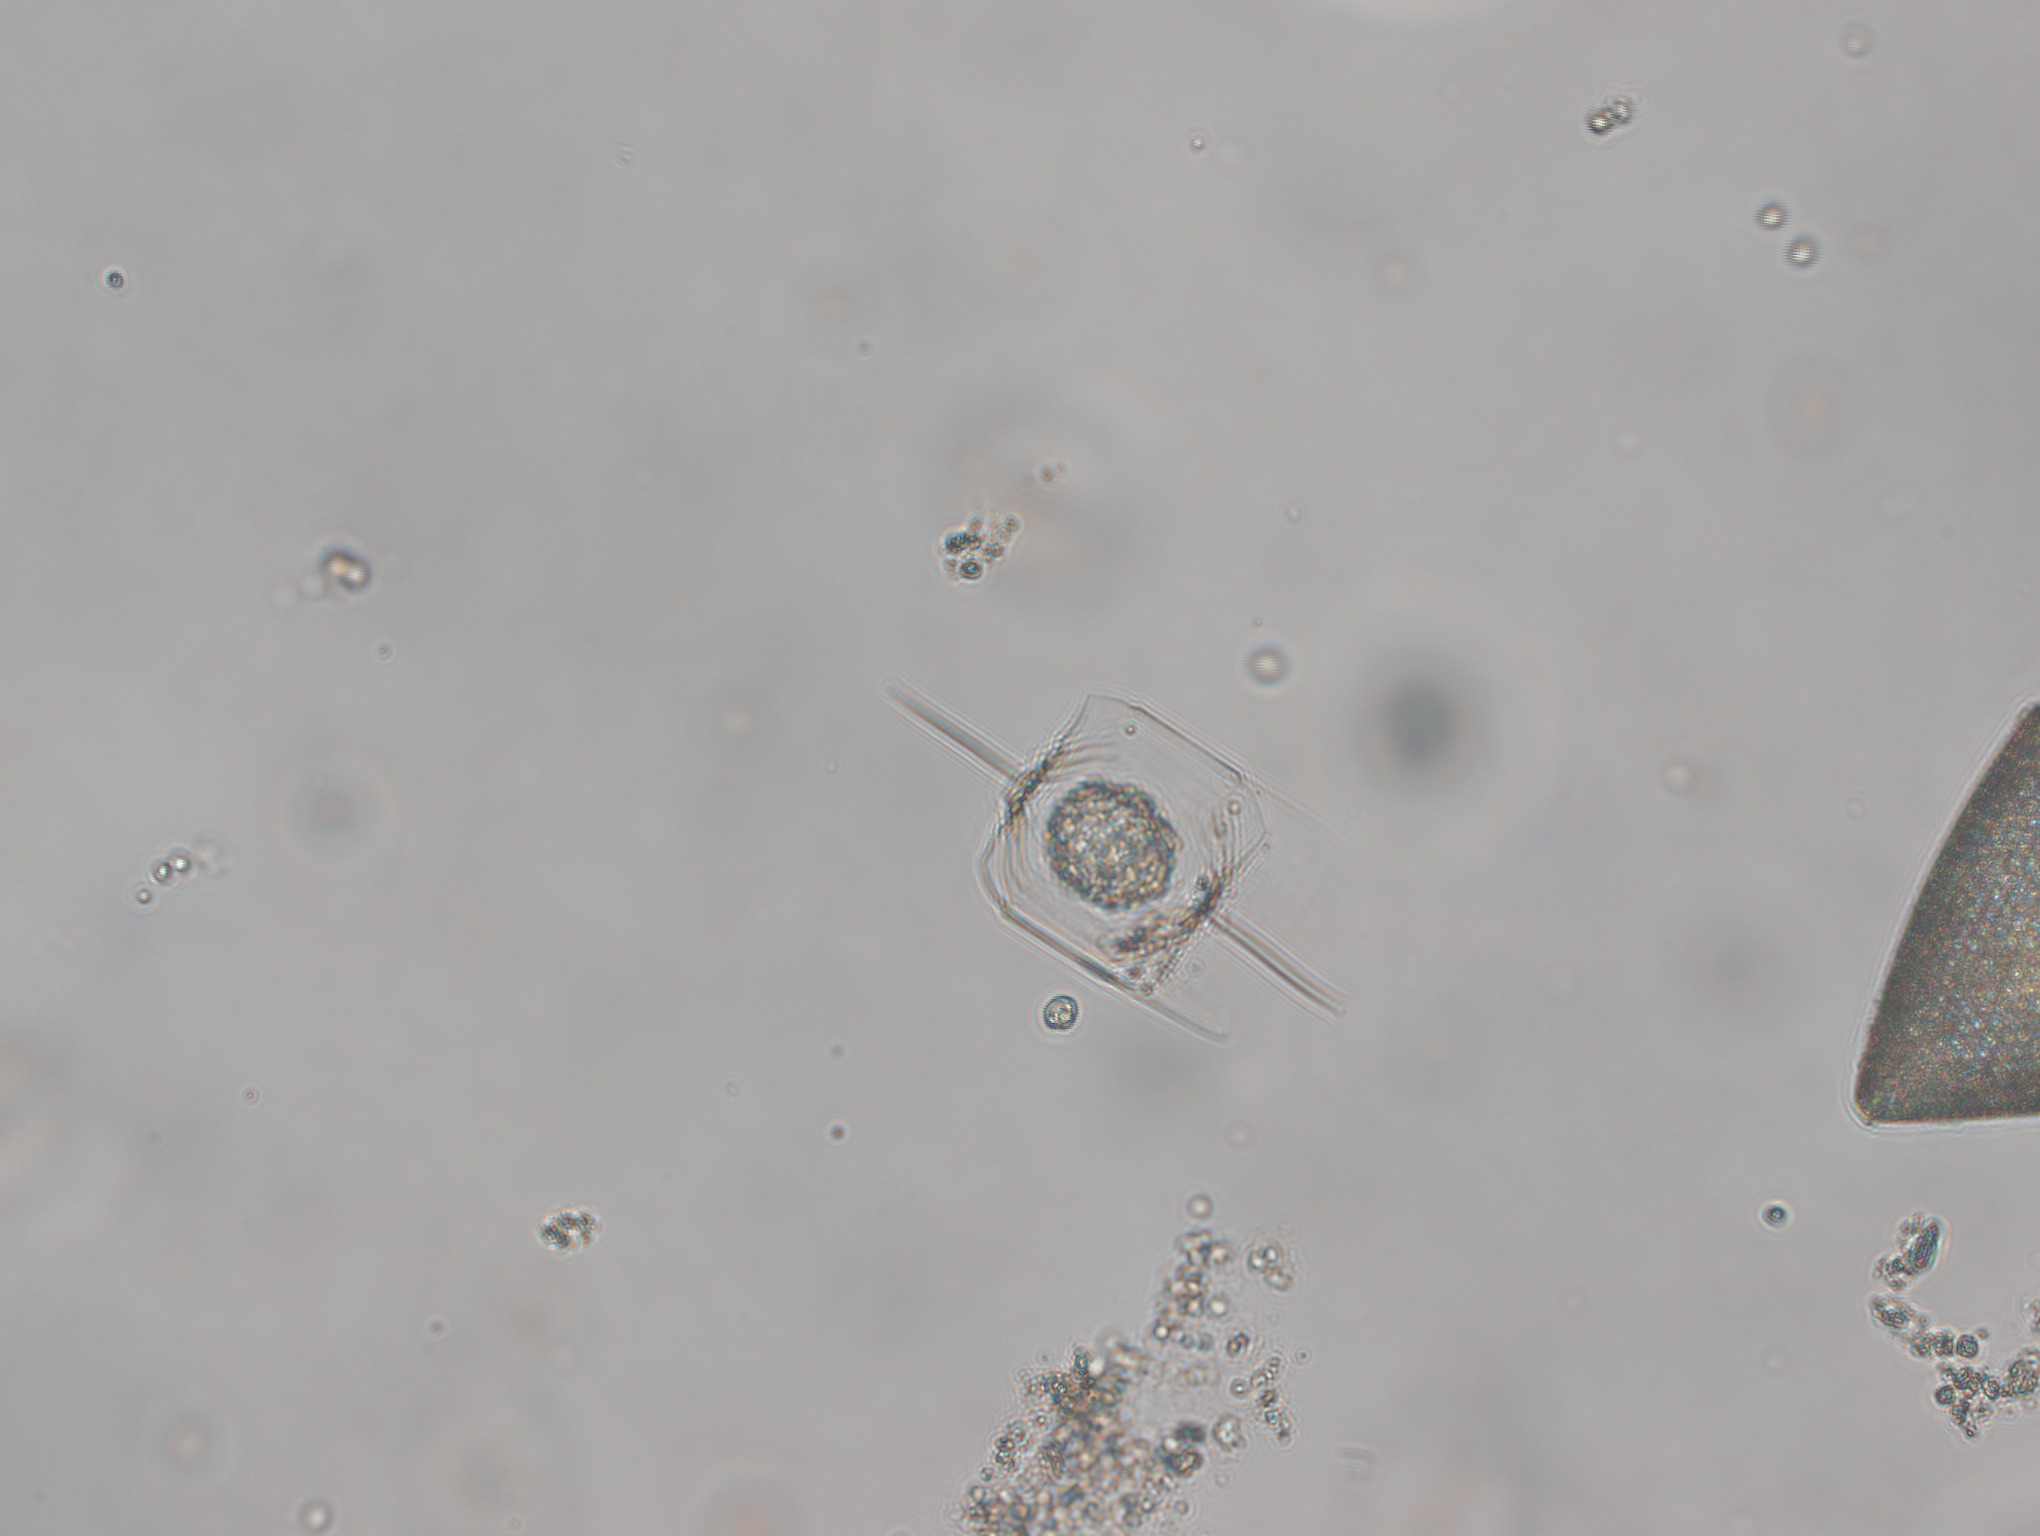coscinodiscus flank: (1850, 695, 2040, 1129)
ditylum: (872, 671, 1368, 1046)
